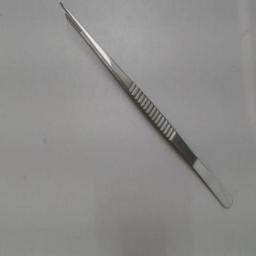DeBakey Dissector: (56, 2, 242, 218)
